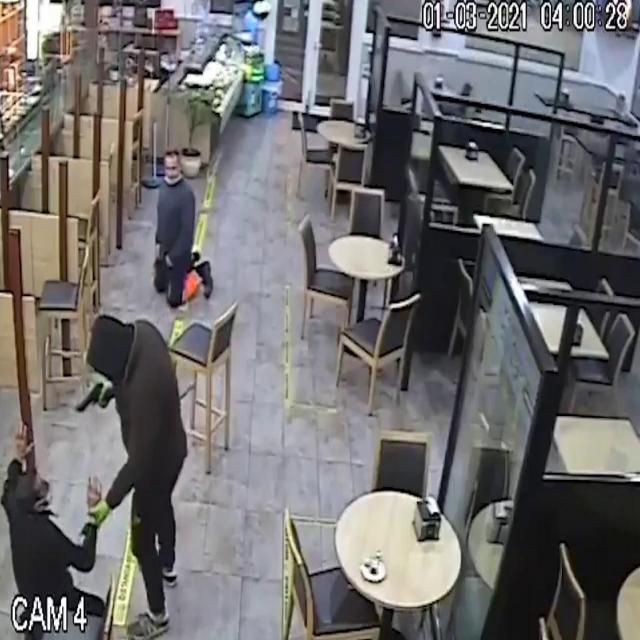weapon: (60, 375, 114, 427)
